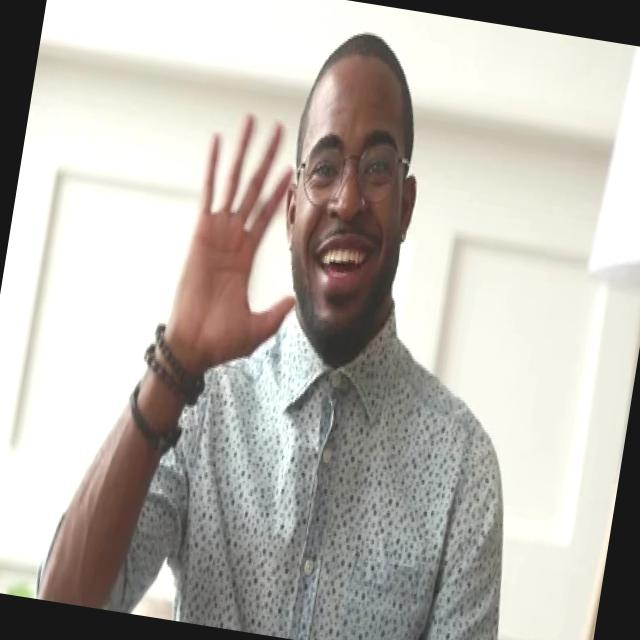Hand: (143, 91, 330, 396)
